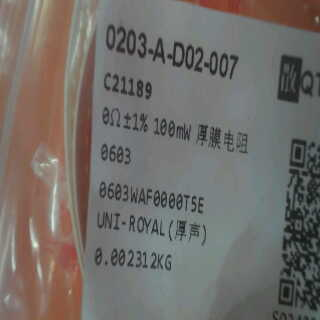0R: (96, 100, 151, 175)
